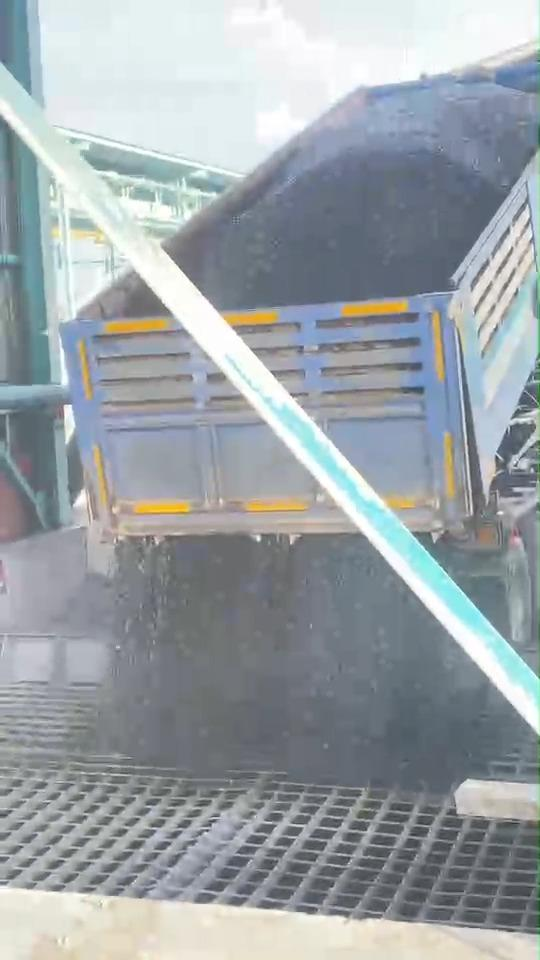gravel: (111, 536, 481, 787), (168, 83, 536, 308), (93, 276, 159, 316)
